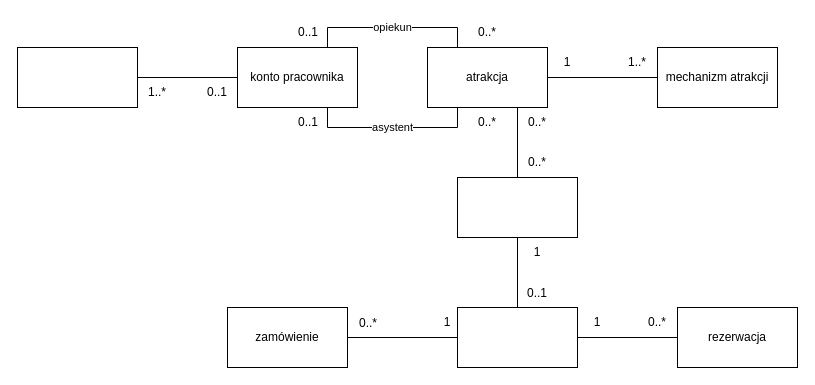
Some shapes in this 815 by 385 pixel diagram are drawn without their labels. Each missing label, with the centre of its shape:
"gość" belongs at [517,337].
"harmonogram" belongs at [77,77].
"konto gościa" belongs at [517,207].
